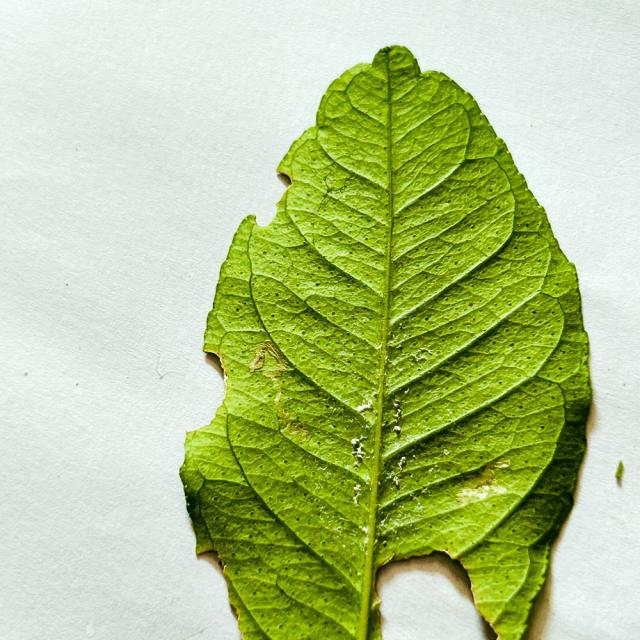Deficiency Leaf: (376, 554, 491, 639), (176, 351, 225, 431), (196, 554, 241, 639), (253, 172, 284, 226)
Lemon: (180, 45, 591, 639)
